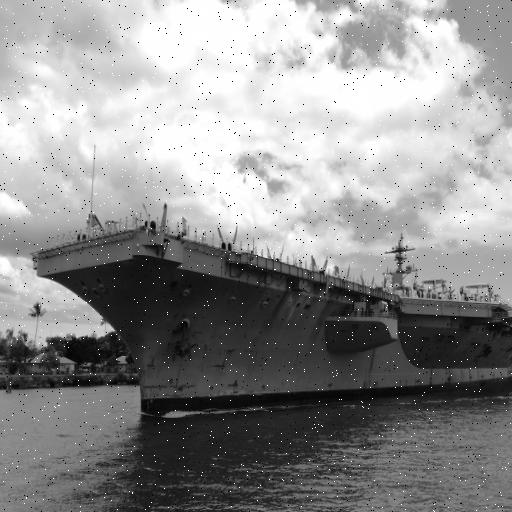Portanaves: (27, 204, 512, 429)
